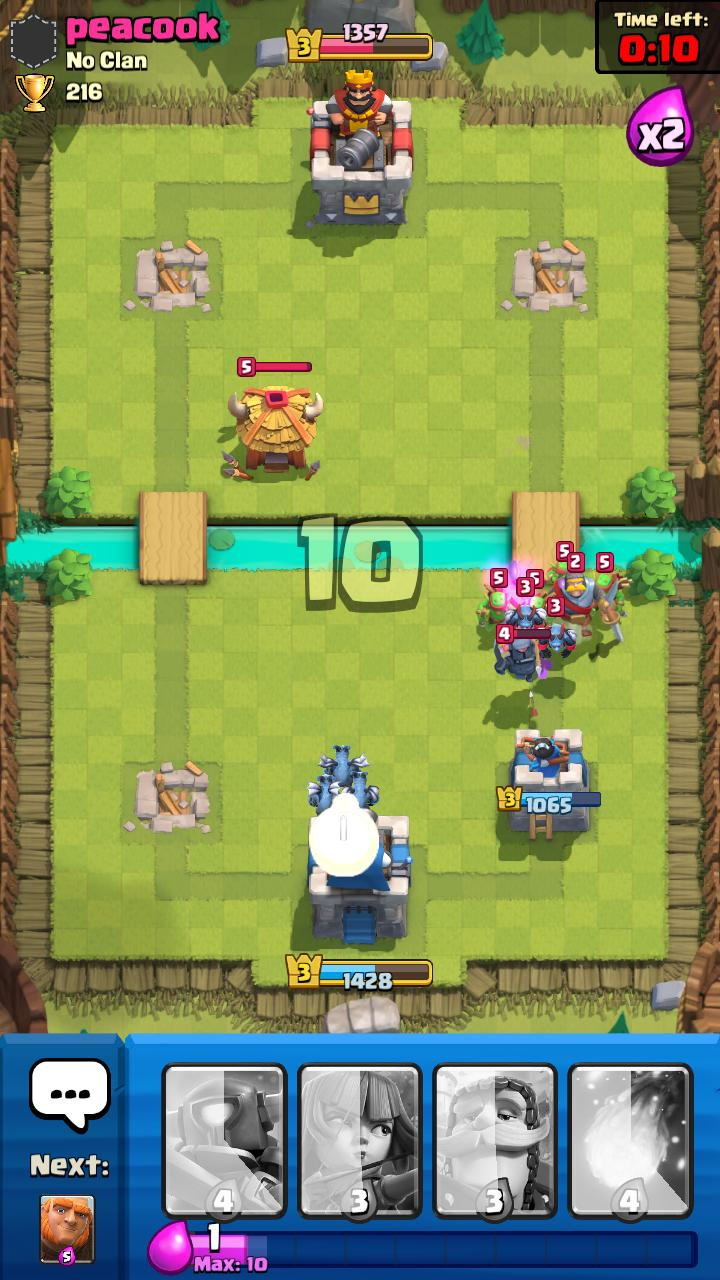ally: (317, 745, 370, 787), (306, 774, 342, 816), (342, 771, 380, 809)
enemy: (221, 357, 323, 481), (548, 552, 618, 637), (494, 624, 551, 682), (536, 597, 578, 659), (590, 552, 627, 617), (476, 568, 512, 631), (505, 577, 547, 629), (520, 569, 557, 624), (546, 541, 574, 586)
